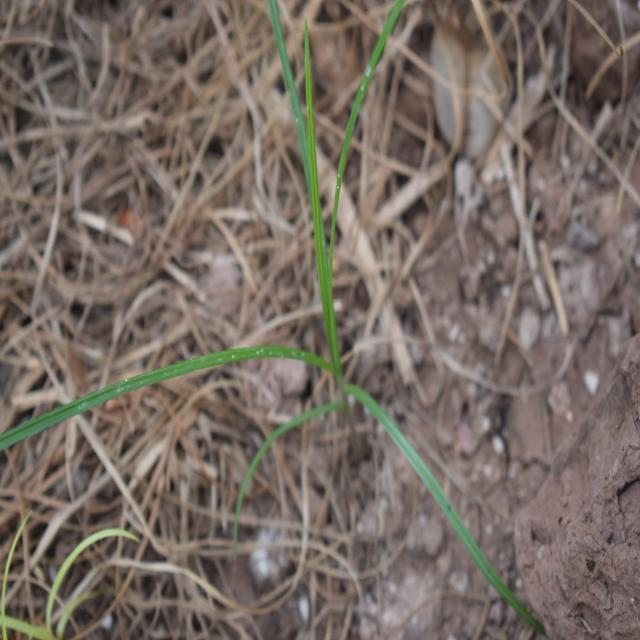sedge: (61, 56, 488, 586)
